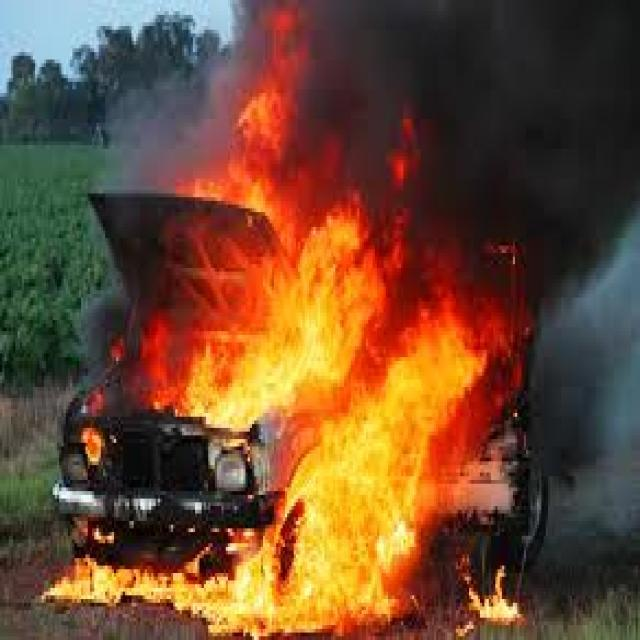Fire: (185, 236, 487, 544), (46, 541, 428, 640), (210, 80, 358, 234), (462, 562, 520, 626)
Smoke: (371, 0, 640, 236)
